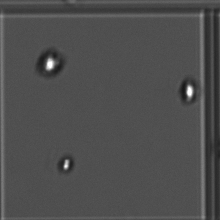Living Cell: (34, 45, 66, 78), (178, 76, 201, 111), (56, 154, 75, 175)
